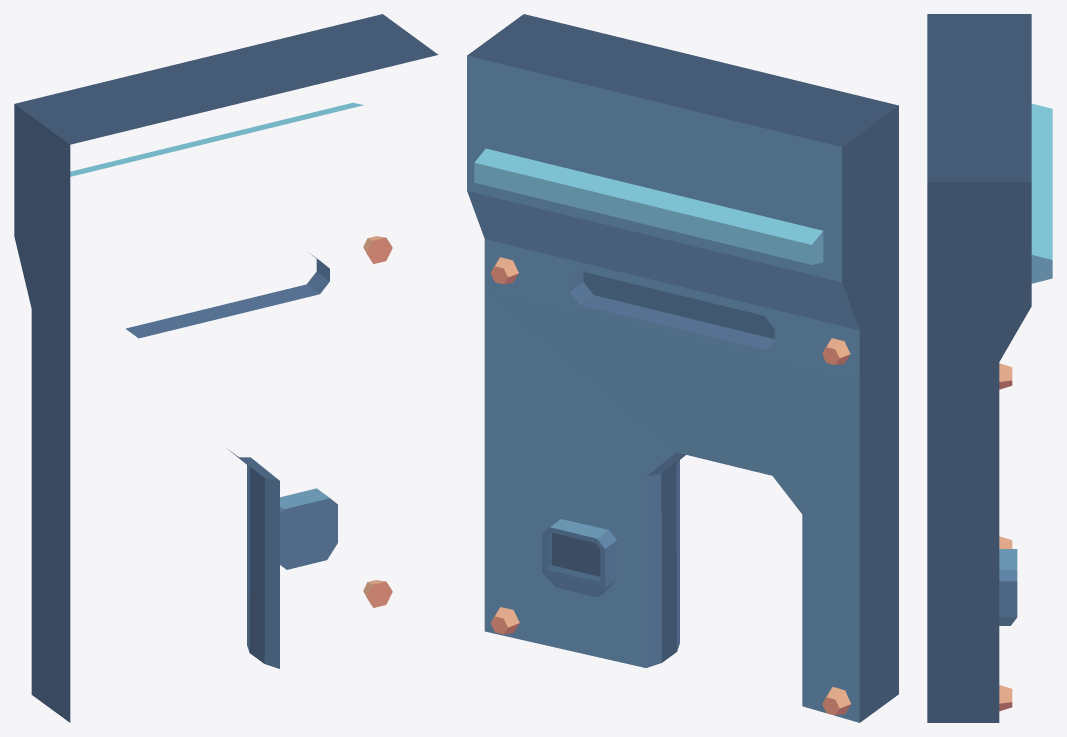
File: doorWall.glb
The picture shows the model from 3 angles, left to right: view 1: azimuth 30°, elevation 25°; view 2: azimuth 150°, elevation 25°; view 3: azimuth 270°, elevation 25°; orthographic projection. The views are drawn at different scales.
Parts seen in each view (by area): view 1: doorFrame, Cube.001; view 2: doorFrame, Cube.001; view 3: doorFrame, Cube.001.
Boxes of the visible parts, bbox=[...] form: doorFrame: bbox=[14, 14, 438, 722]; Cube.001: bbox=[280, 488, 337, 569]; doorFrame: bbox=[467, 14, 898, 722]; Cube.001: bbox=[542, 519, 617, 597]; doorFrame: bbox=[927, 14, 1052, 722]; Cube.001: bbox=[999, 549, 1017, 625].
Size of the model in its own units: 5 by 7.5 by 1.58.
Materials: 1 (1 with a texture image).
